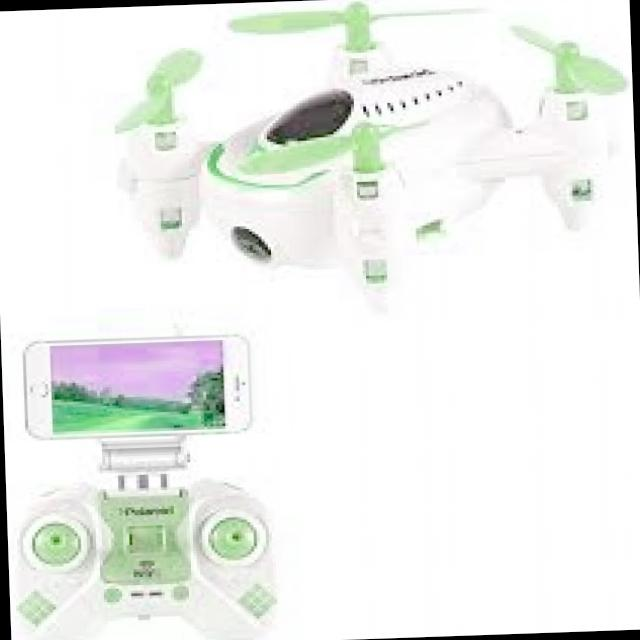drone: (94, 0, 640, 325)
